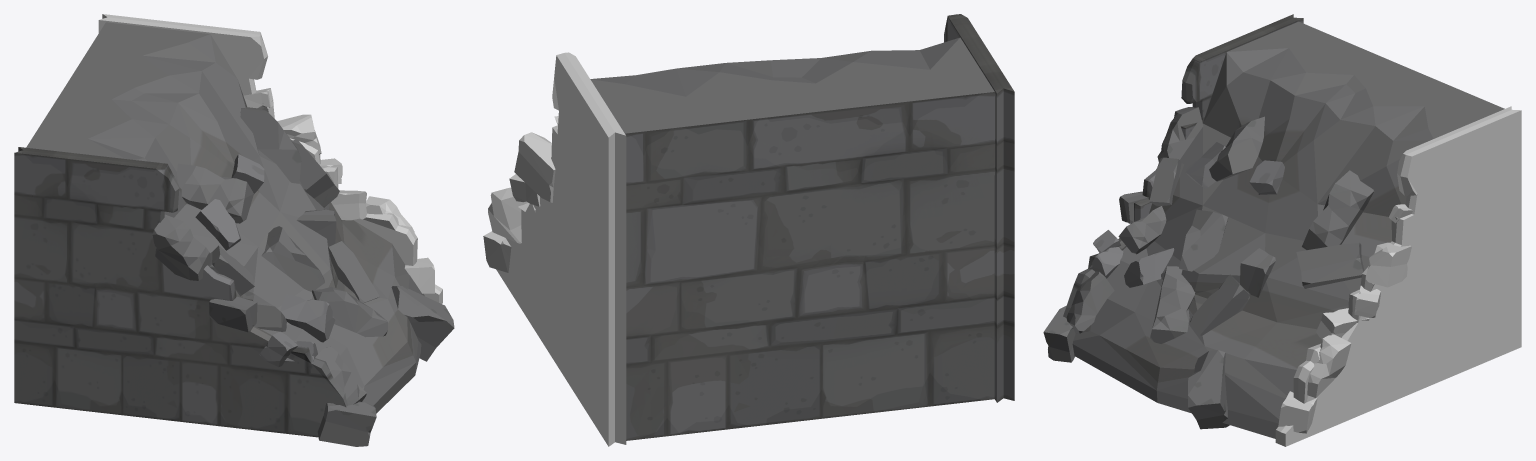
File: SM_Bld_45_Wall_L_Damaged_01.fbx
3 renders of one model, left to right at view 1: azimuth 30°, elevation 25°; view 2: azimuth 150°, elevation 25°; view 3: azimuth 270°, elevation 25°, orthographic. The views are drawn at different scales.
Parts seen in each view (by area): view 1: SM_Bld_45_Wall_L_Damaged_01; view 2: SM_Bld_45_Wall_L_Damaged_01; view 3: SM_Bld_45_Wall_L_Damaged_01.
Boxes of the visible parts, box(x1,y1,x2,y2) form: SM_Bld_45_Wall_L_Damaged_01: box(14, 14, 454, 446); SM_Bld_45_Wall_L_Damaged_01: box(483, 14, 1014, 446); SM_Bld_45_Wall_L_Damaged_01: box(1043, 14, 1521, 446).
Size of the model in its own units: 1064 by 628 by 1097.
